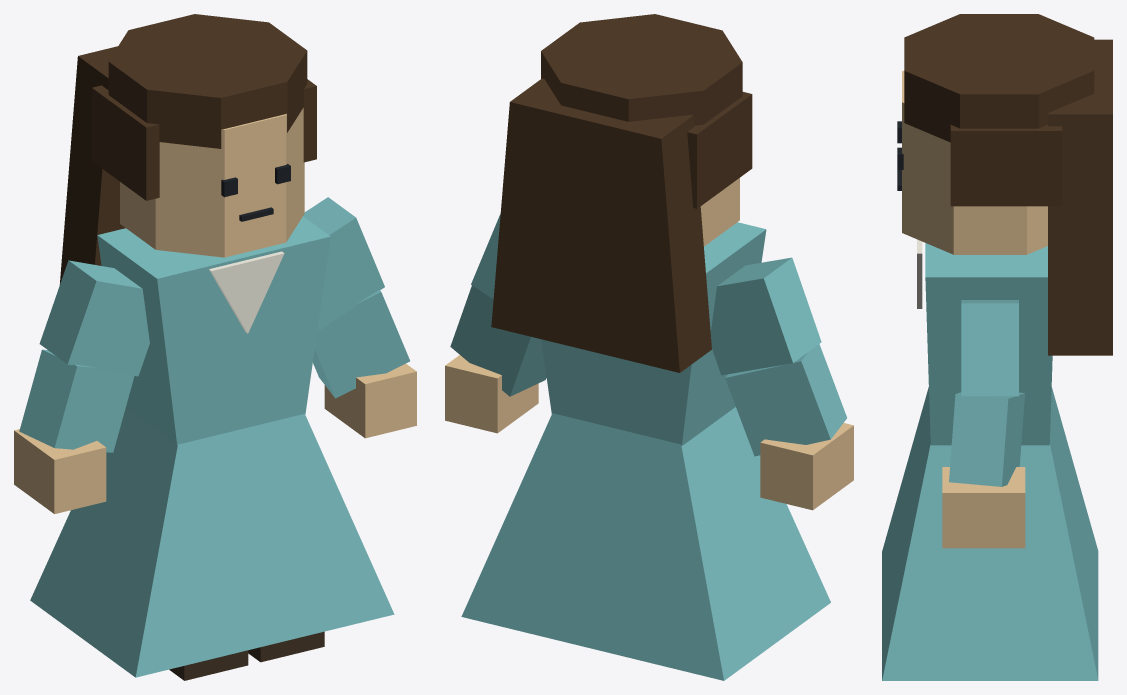
Rendered from Eliza.glb.
3 views of the same model, side by side, from view 1: azimuth 30°, elevation 25°; view 2: azimuth 150°, elevation 25°; view 3: azimuth 270°, elevation 25° (orthographic). The views are drawn at different scales.
Visible parts, largest first — view 1: Body_M_CastV02_aqua_7ec7ca, Body_M_CastV02_hair_4d3722, Body_M_CastV02_lightSkin_ebca99, Body_M_CastV02_white_f9f7ea, Body; view 2: Body_M_CastV02_aqua_7ec7ca, Body_M_CastV02_hair_4d3722, Body_M_CastV02_lightSkin_ebca99; view 3: Body_M_CastV02_aqua_7ec7ca, Body_M_CastV02_hair_4d3722, Body_M_CastV02_lightSkin_ebca99, Body_M_CastV02_white_f9f7ea.
Boxes of the visible parts, bbox=[...] form: Body_M_CastV02_aqua_7ec7ca: bbox=[19, 197, 409, 677]; Body_M_CastV02_hair_4d3722: bbox=[59, 14, 316, 284]; Body_M_CastV02_lightSkin_ebca99: bbox=[14, 108, 416, 513]; Body_M_CastV02_white_f9f7ea: bbox=[209, 251, 284, 333]; Body: bbox=[169, 631, 324, 680]; Body_M_CastV02_aqua_7ec7ca: bbox=[450, 214, 846, 680]; Body_M_CastV02_hair_4d3722: bbox=[491, 14, 752, 372]; Body_M_CastV02_lightSkin_ebca99: bbox=[445, 178, 853, 510]; Body_M_CastV02_aqua_7ec7ca: bbox=[882, 243, 1098, 680]; Body_M_CastV02_hair_4d3722: bbox=[904, 14, 1112, 355]; Body_M_CastV02_lightSkin_ebca99: bbox=[902, 70, 1047, 548]; Body_M_CastV02_white_f9f7ea: bbox=[917, 239, 922, 308].
Size of the model in its own units: 1.23 by 1.8 by 0.64.
